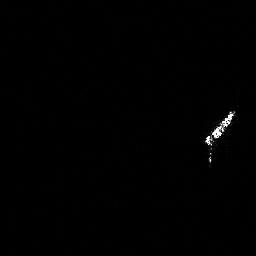ship: (200, 106, 240, 168)
